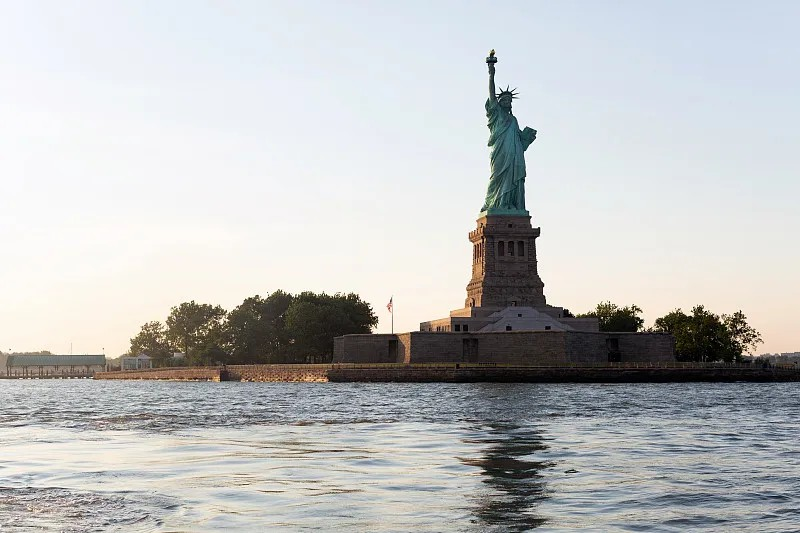SL: (465, 49, 548, 307)
